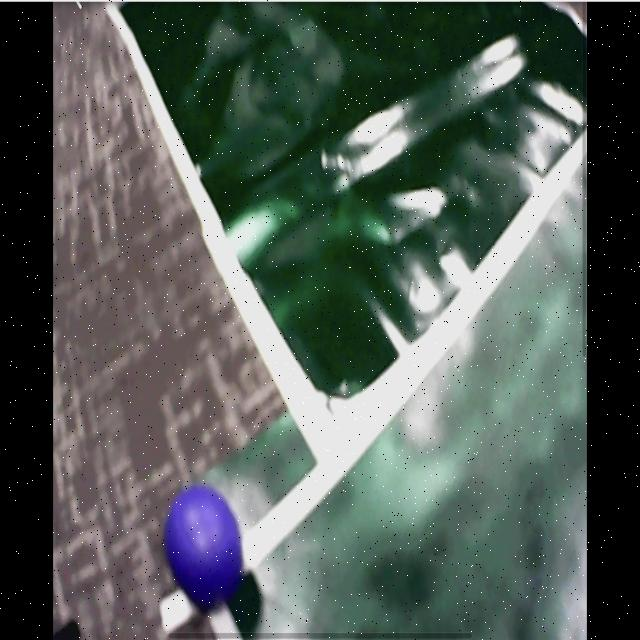ball: (168, 486, 242, 611)
